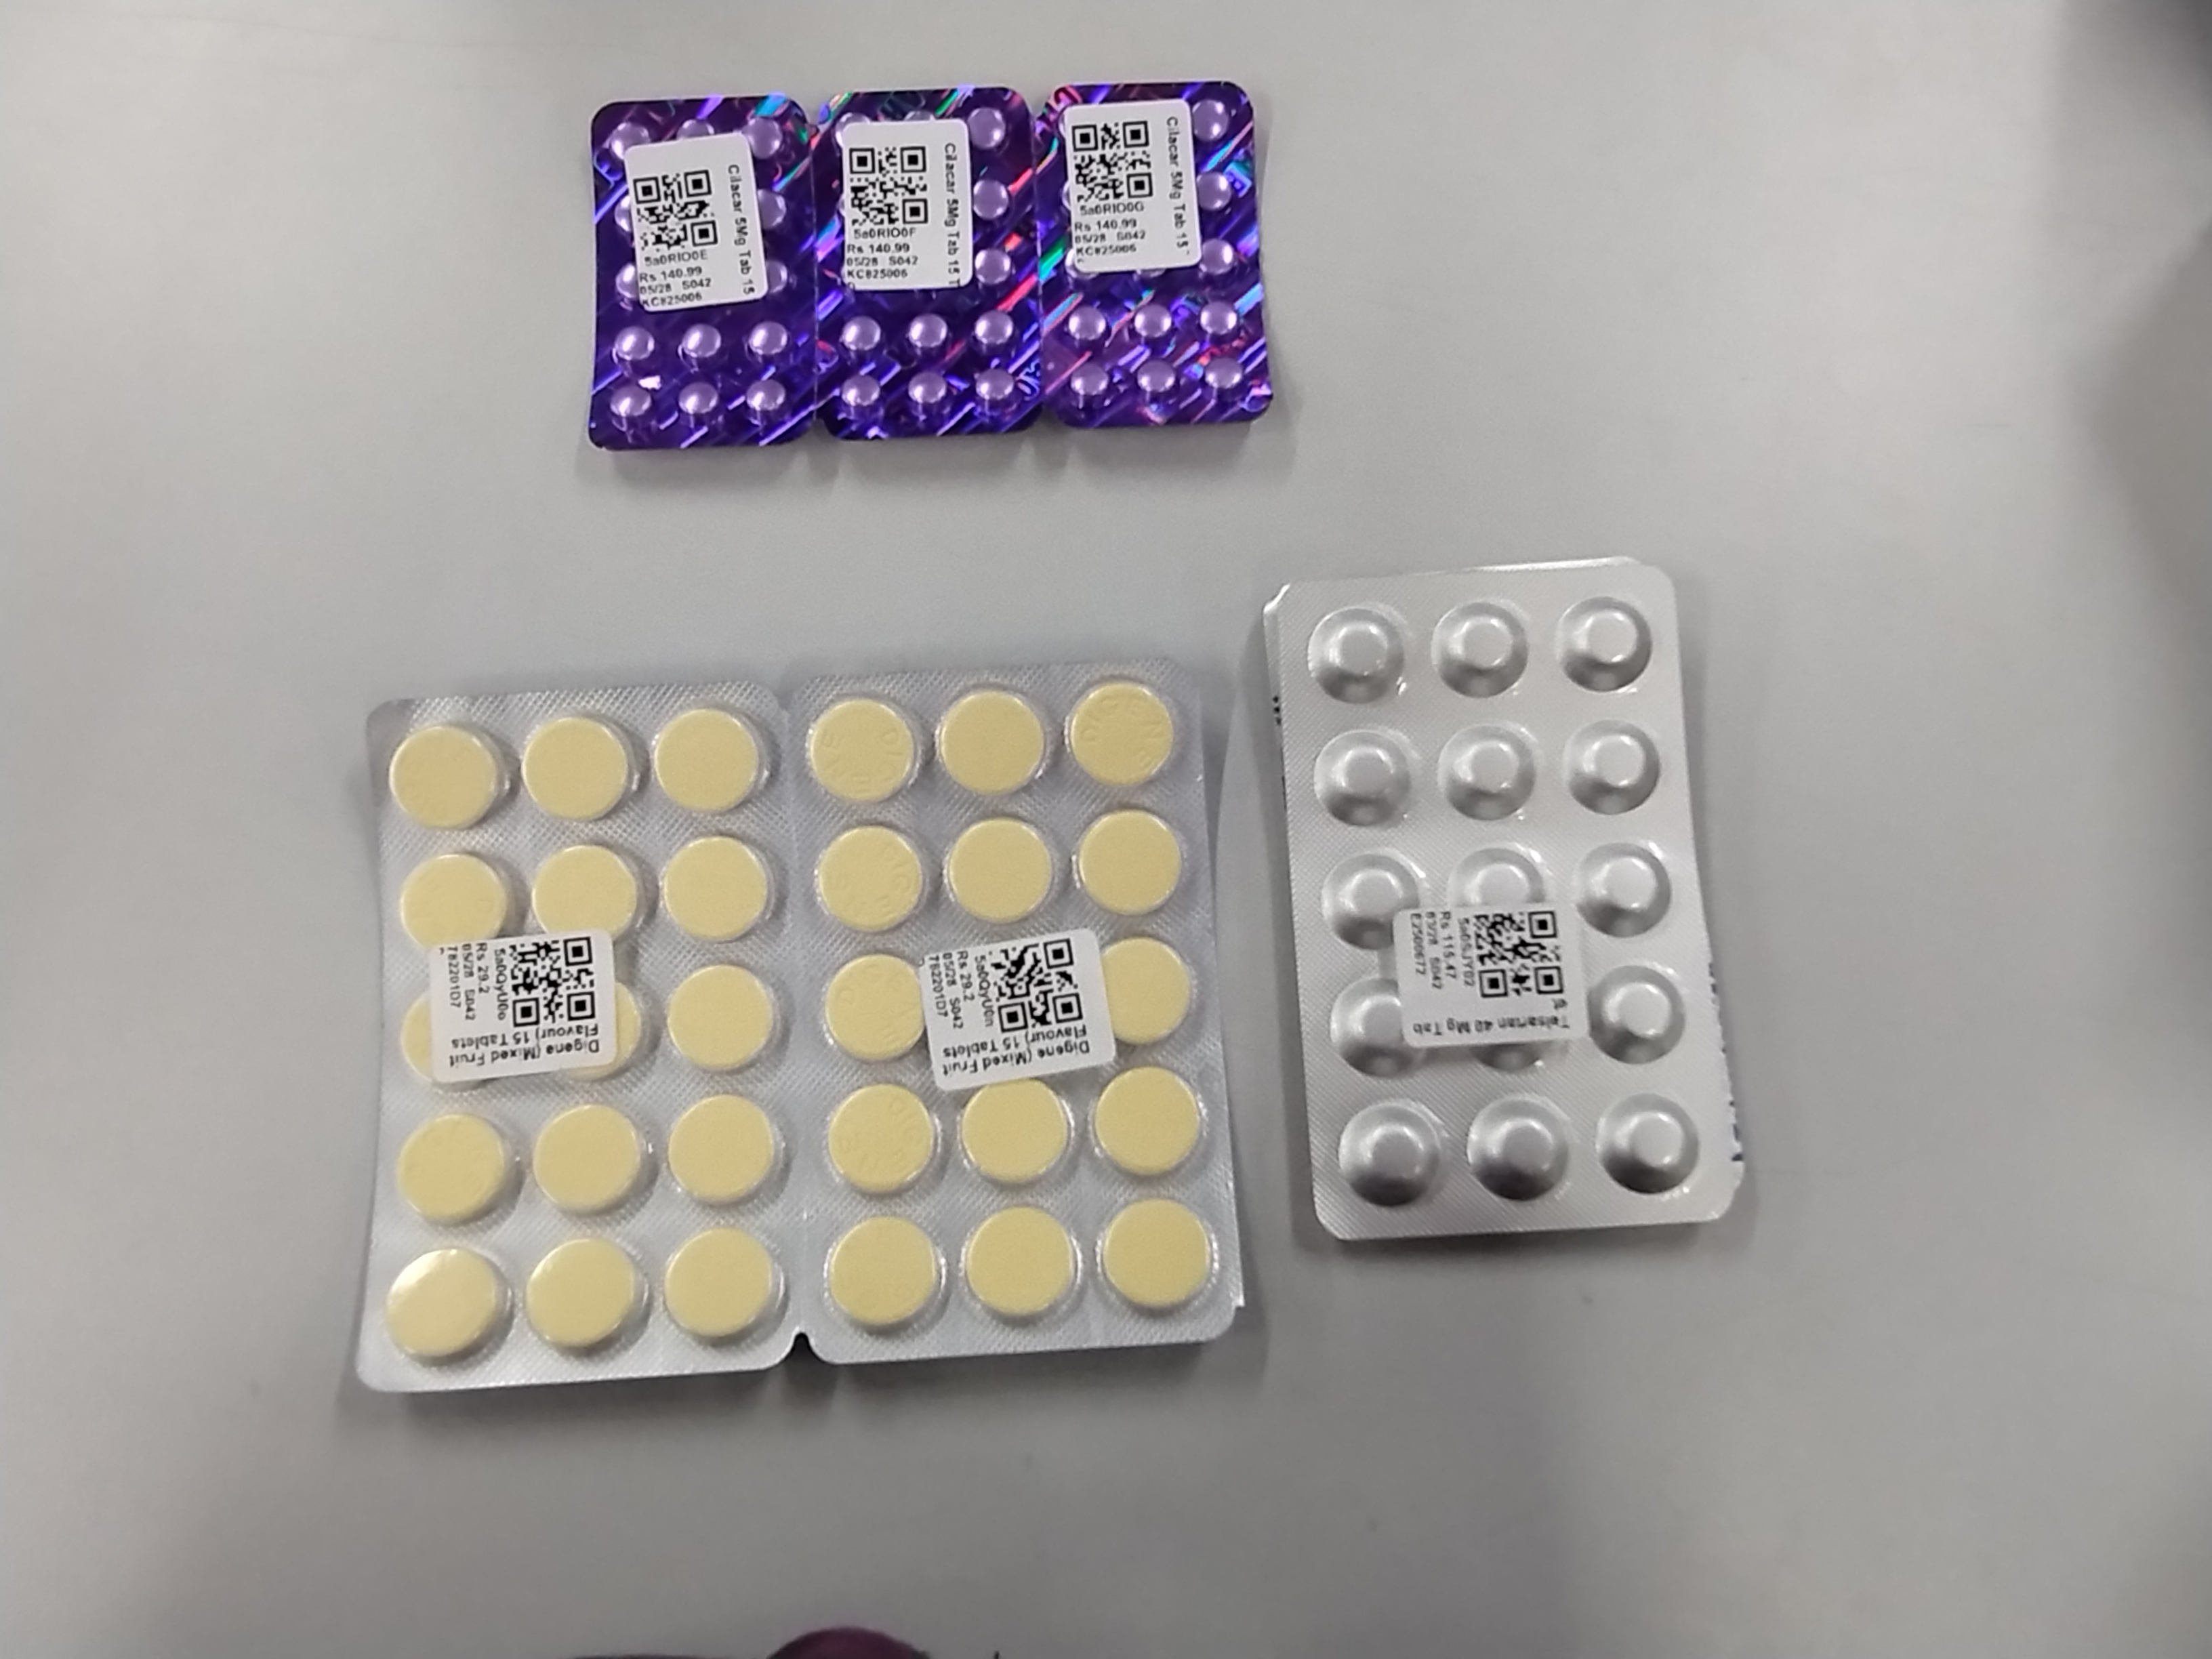QR: (1472, 864, 1564, 953), (509, 889, 596, 981), (632, 125, 718, 211)
